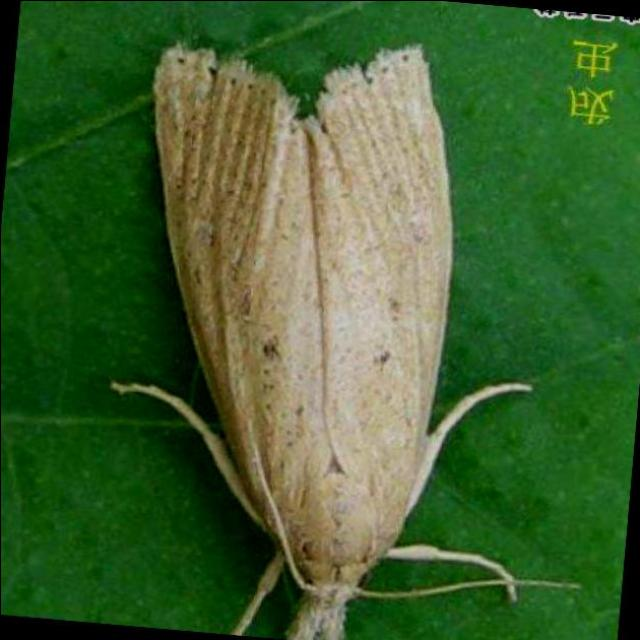stem borer: (110, 46, 576, 640)
